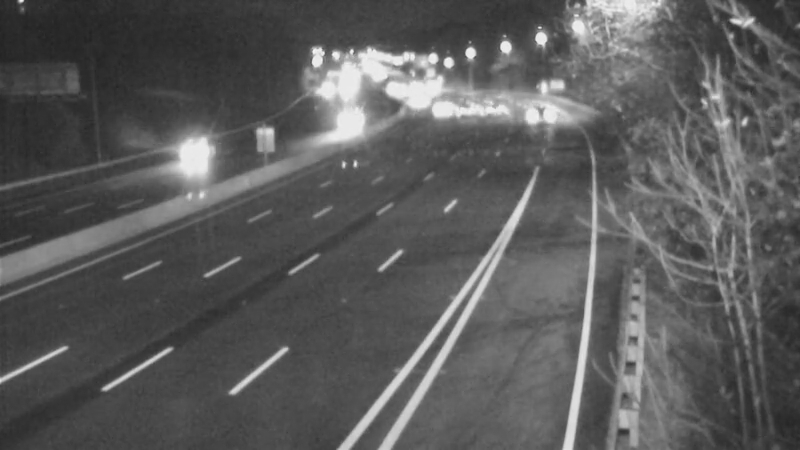vehicle: (184, 116, 264, 196), (391, 73, 441, 123), (409, 79, 459, 129), (469, 83, 519, 133), (440, 80, 490, 130), (522, 90, 572, 140), (316, 104, 366, 154)
